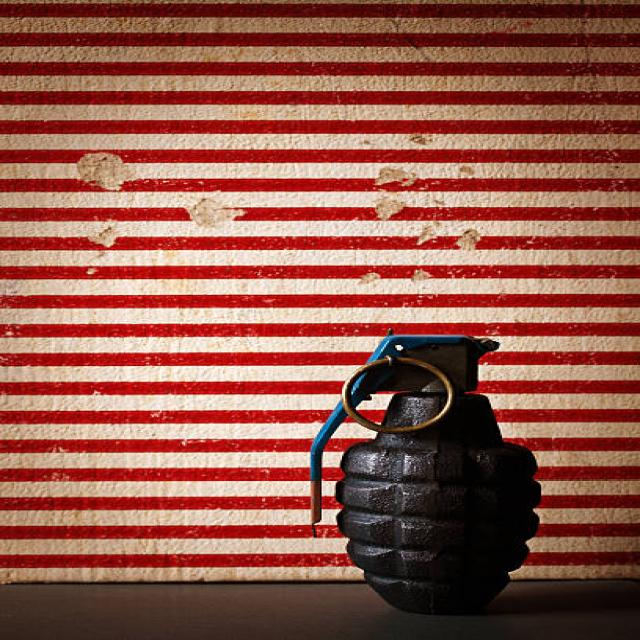grenade: (298, 329, 554, 625)
